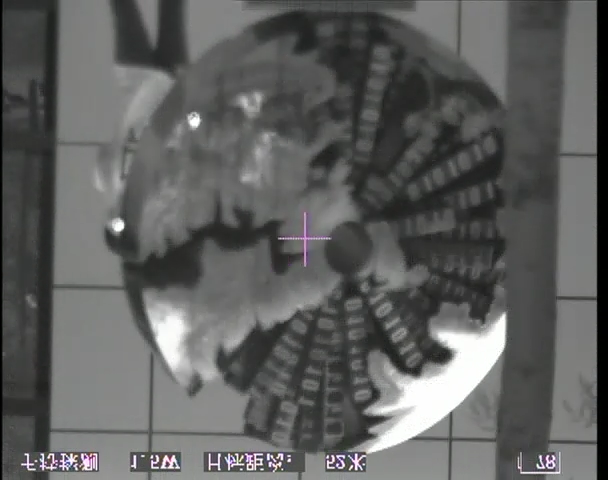my: (111, 217, 125, 233)
